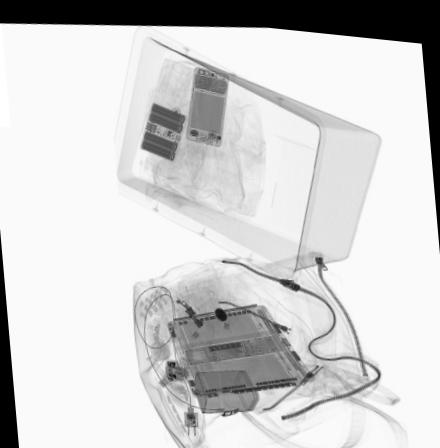Powerbank: (139, 98, 188, 158)
